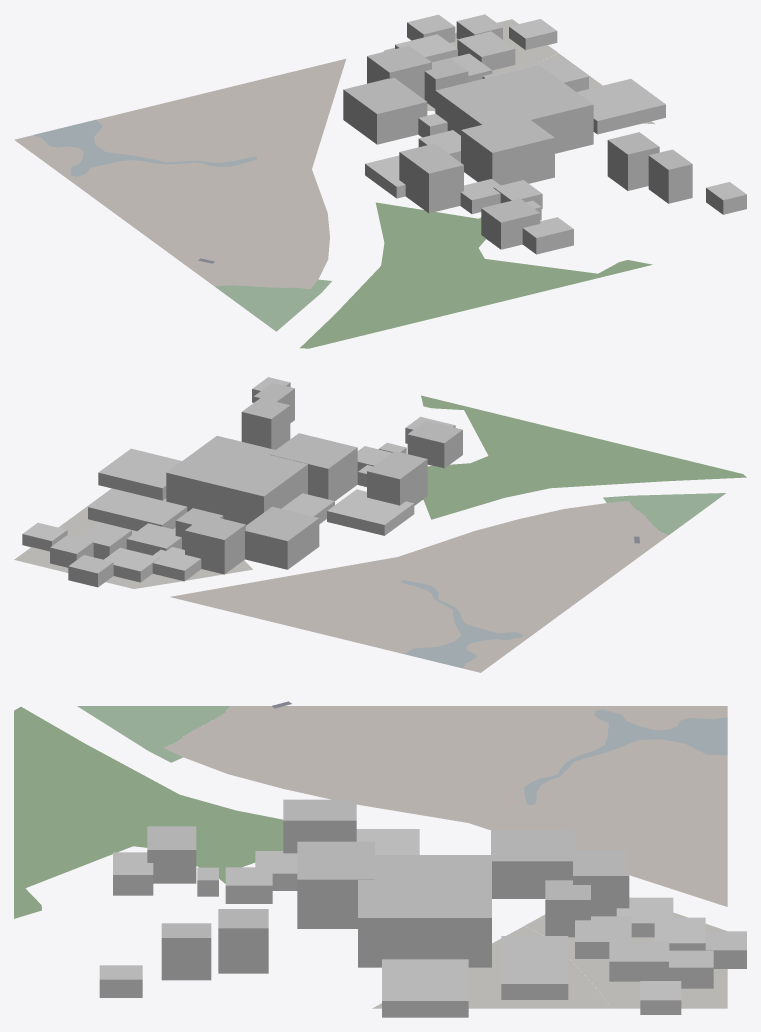
Rendered from 111_114_mid.glb.
3 renders of one model, top to bottom at view 1: azimuth 30°, elevation 25°; view 2: azimuth 150°, elevation 25°; view 3: azimuth 270°, elevation 25°, orthographic. The views are drawn at different scales.
Bounding box in the file's own units: 514 × 39.21 × 514.
